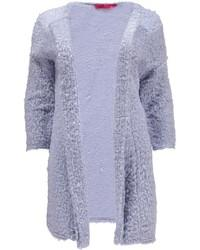S_cardigan sweater: (22, 1, 175, 250)
